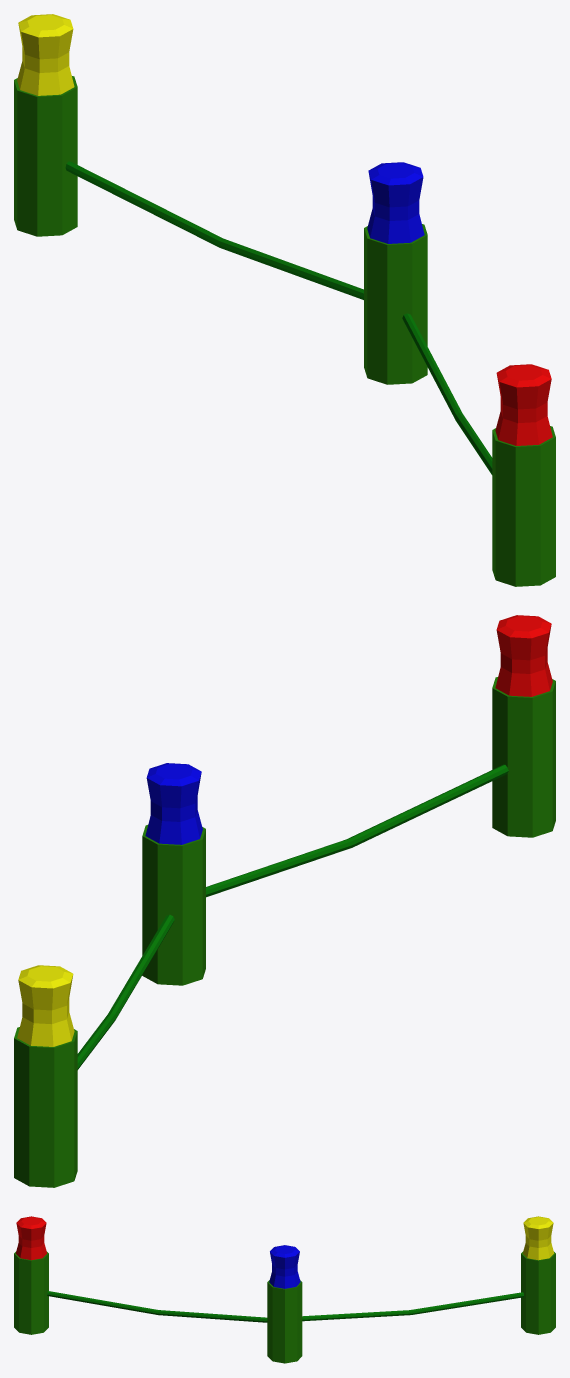
Rendered from XMasLights.fbx.
3 renders of one model, top to bottom at view 1: azimuth 30°, elevation 25°; view 2: azimuth 150°, elevation 25°; view 3: azimuth 270°, elevation 25°, orthographic. The views are drawn at different scales.
Visible parts, largest first — view 1: LightDecoration; view 2: LightDecoration; view 3: LightDecoration.
Part boxes in pixels (<box>): LightDecoration: <box>14,14,555,586</box>; LightDecoration: <box>14,615,555,1187</box>; LightDecoration: <box>14,1216,555,1363</box>.
Bounding box in the file's own units: 9.93 × 11.33 × 52.34.
